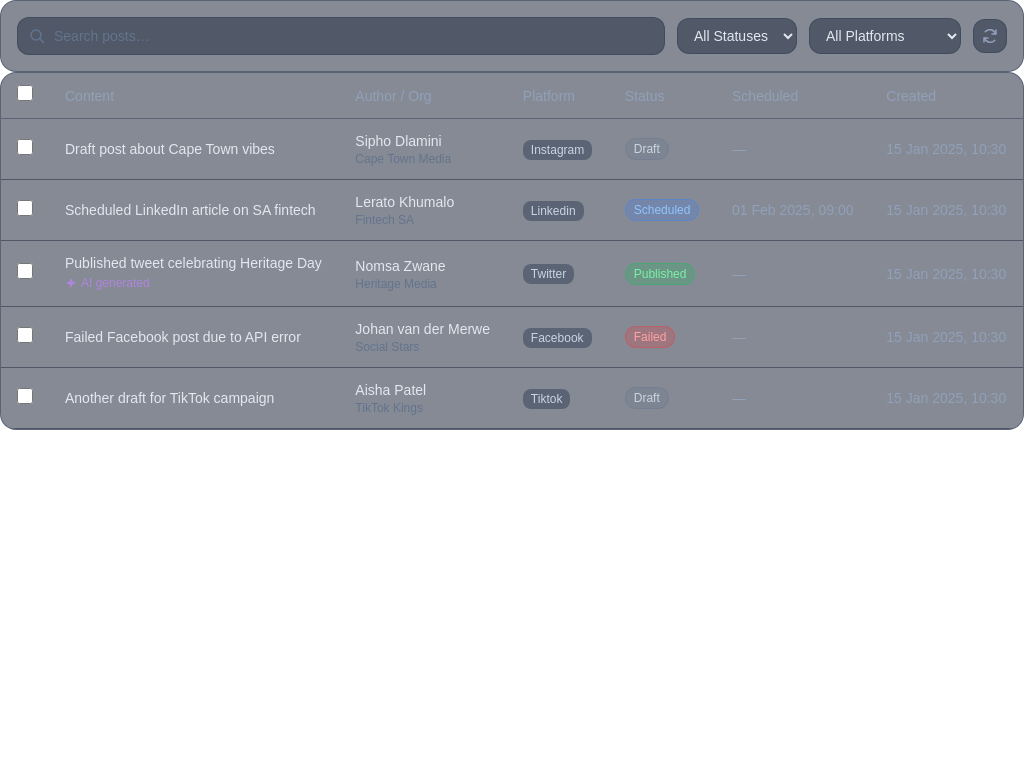
PostModerationTable › Selection › shows bulk action bar when posts are selected
// Select a post
Click the checkbox named "Select post by Sipho Dlamini": click(25, 146) [17,138,33,154]
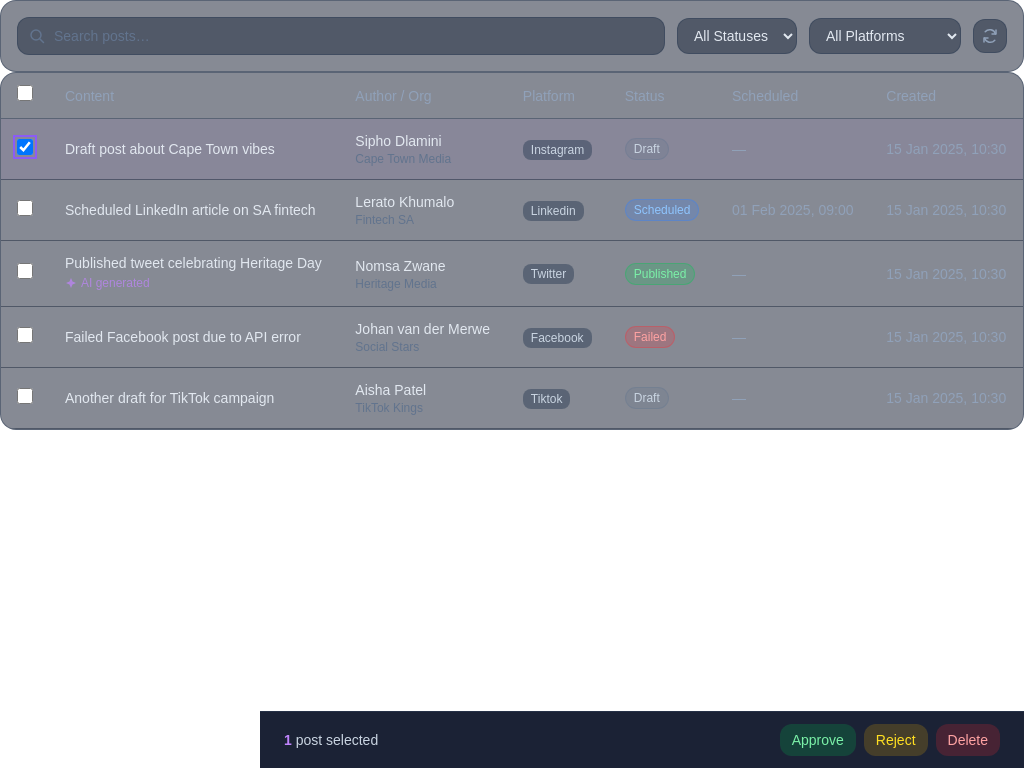
Expected: the element named "bulk actions" is shown, [260,711,1023,767]
Expected: the text "1 post selected" is shown, [284,730,378,750]
